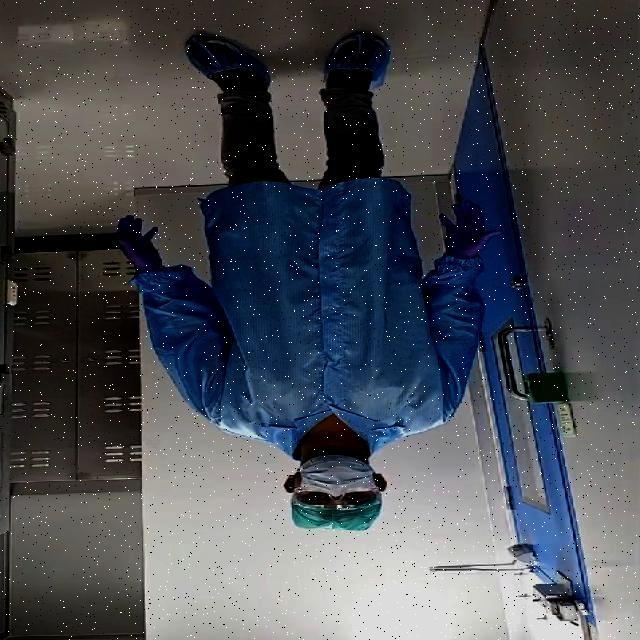apron: (436, 189, 504, 257), (112, 210, 172, 276)
